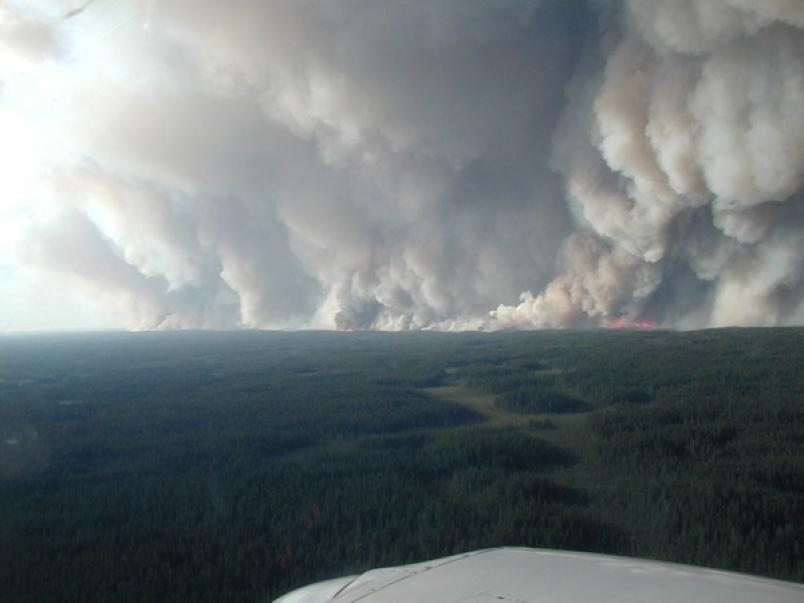smoke: (101, 10, 795, 331)
